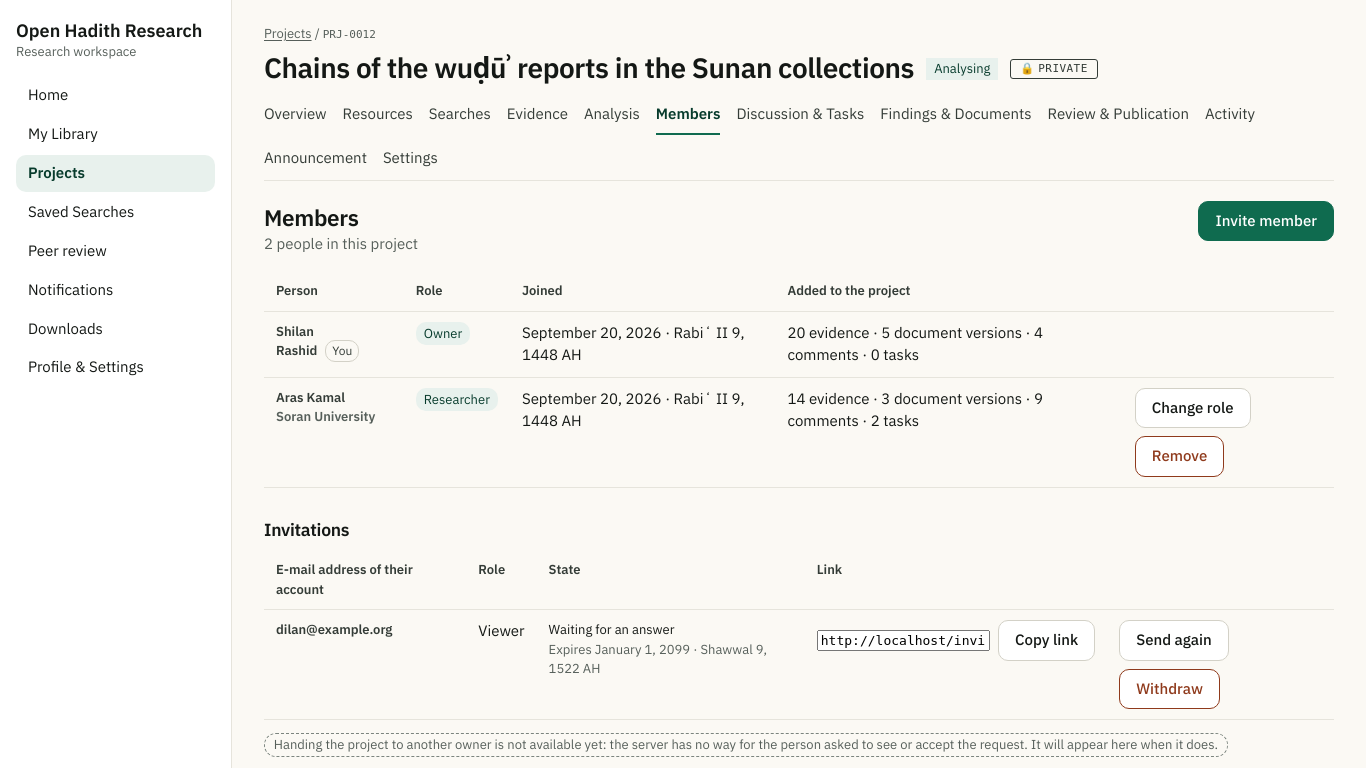
Test: Members: inviting › shows the server’s reason when the person is already invited, and keeps what was typed
Click the button "Invite member" at (1266, 221), box [1198,201,1334,241]
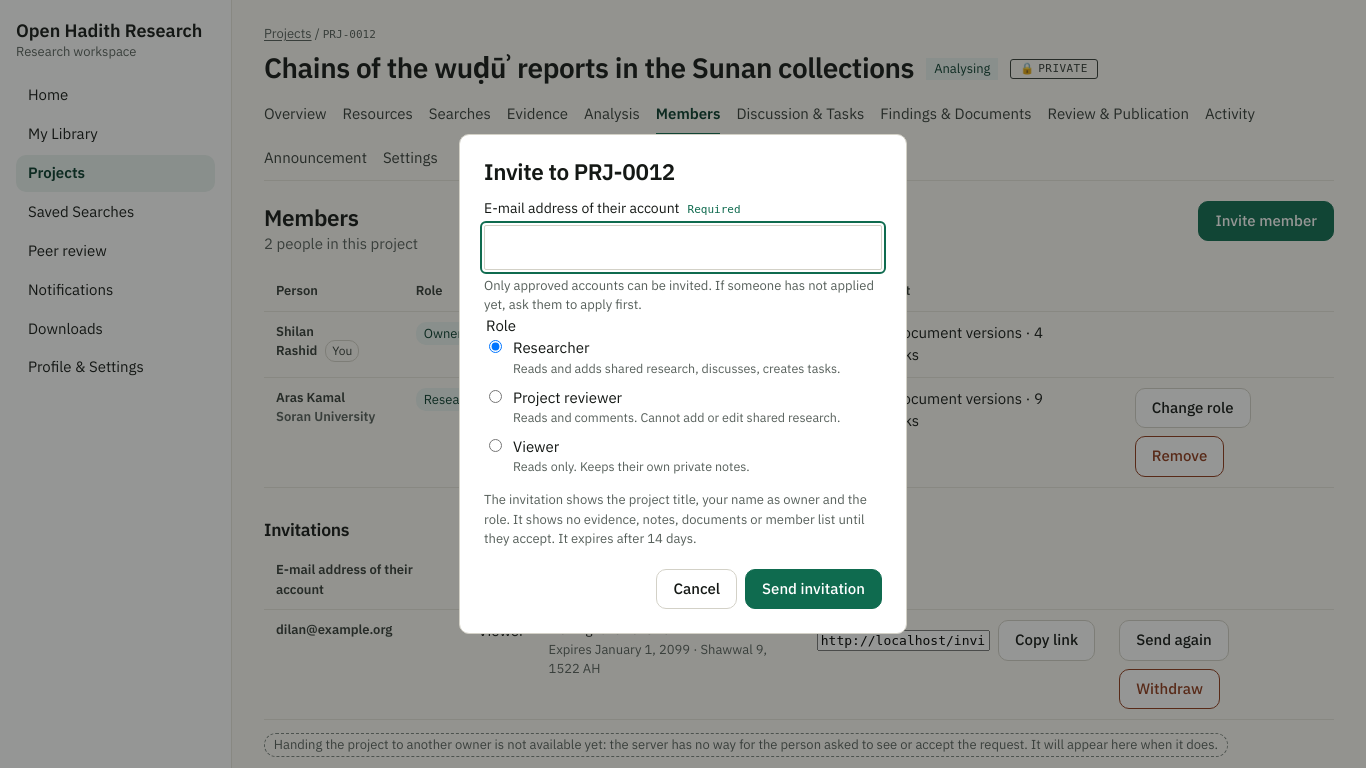
Type "dilan@example.org" into the field labelled "E-mail address" at (683, 248), box [484,225,882,270]
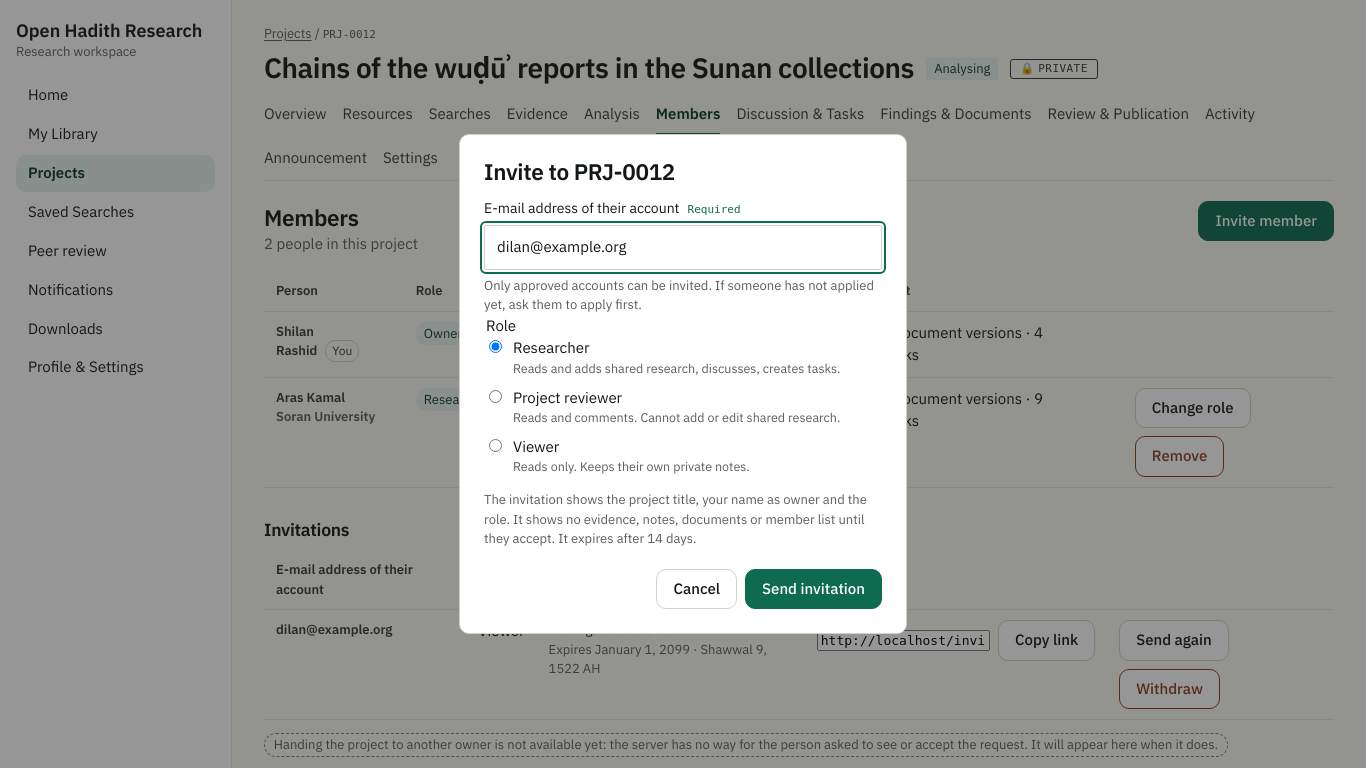
Click the button "Send invitation" at (814, 589), box [745,569,882,609]
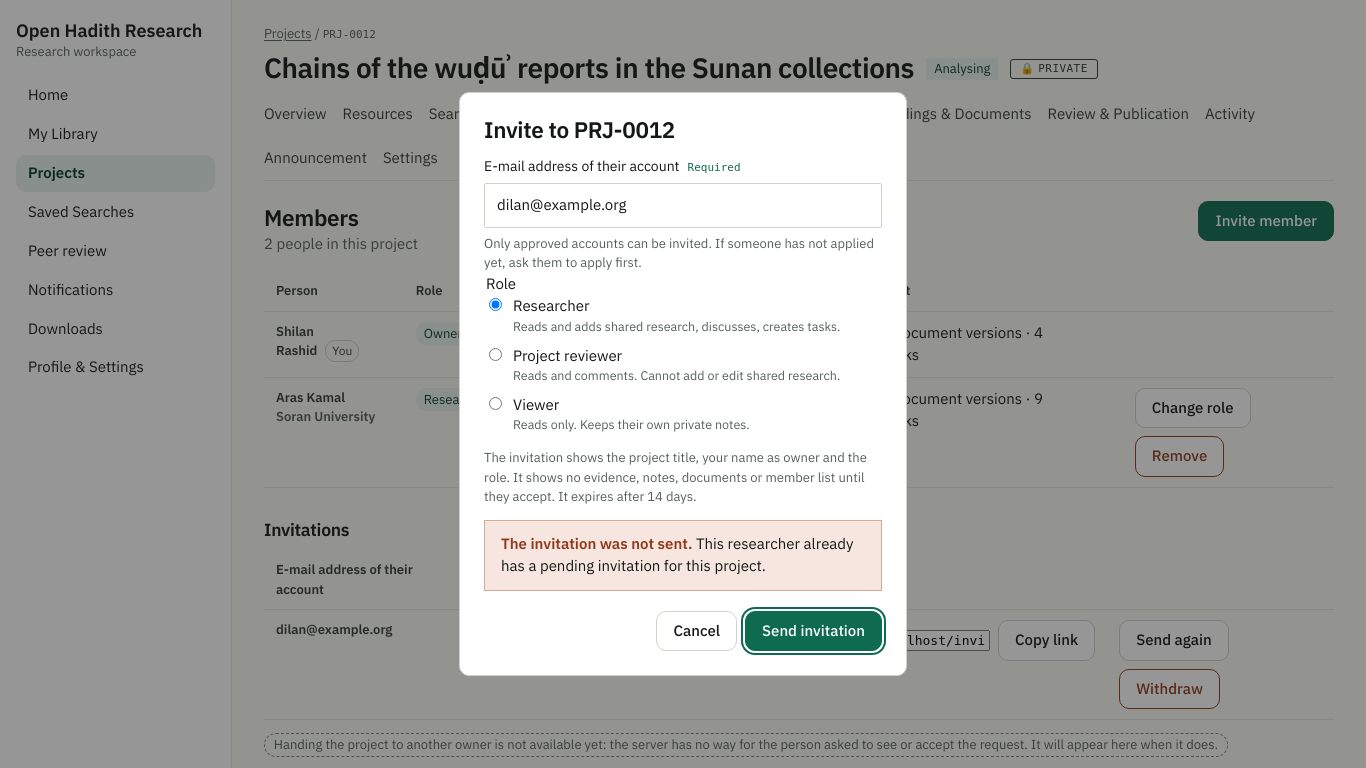
expect the text "already has a pending invitation" is shown: met, box [501,533,854,577]
